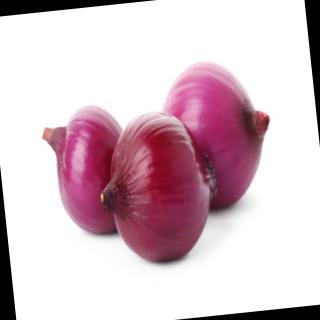Bawang Merah: (93, 105, 227, 272)
